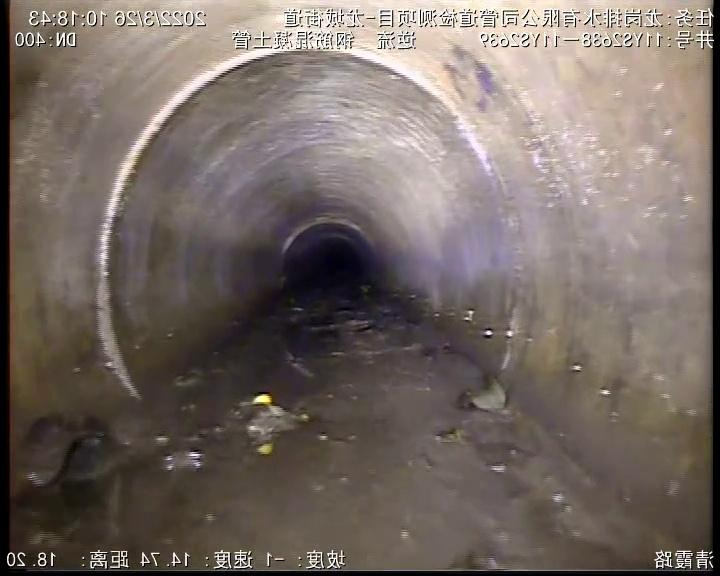CJ: (14, 284, 619, 568)
CKTJ: (96, 47, 492, 395)
